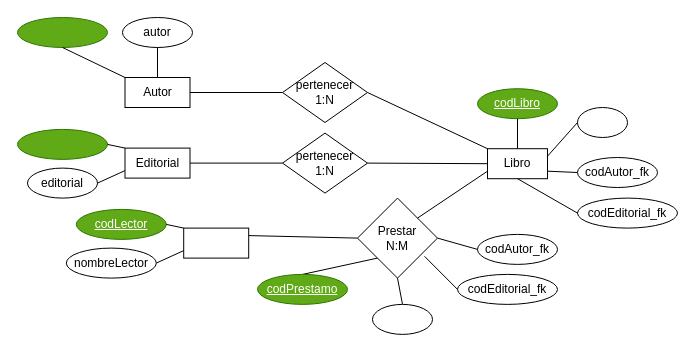
Some shapes in this 695 by 352 pixel diagram are drawn without their labels. The centre of each missing label's shape, as x and y in pixels:
"codAutor" belongs at [62,32].
"codEditorial" belongs at [62,143].
"fechaDev" belongs at [402,318].
"Lector" belongs at [216,242].
"titulo" belongs at [602,122].
